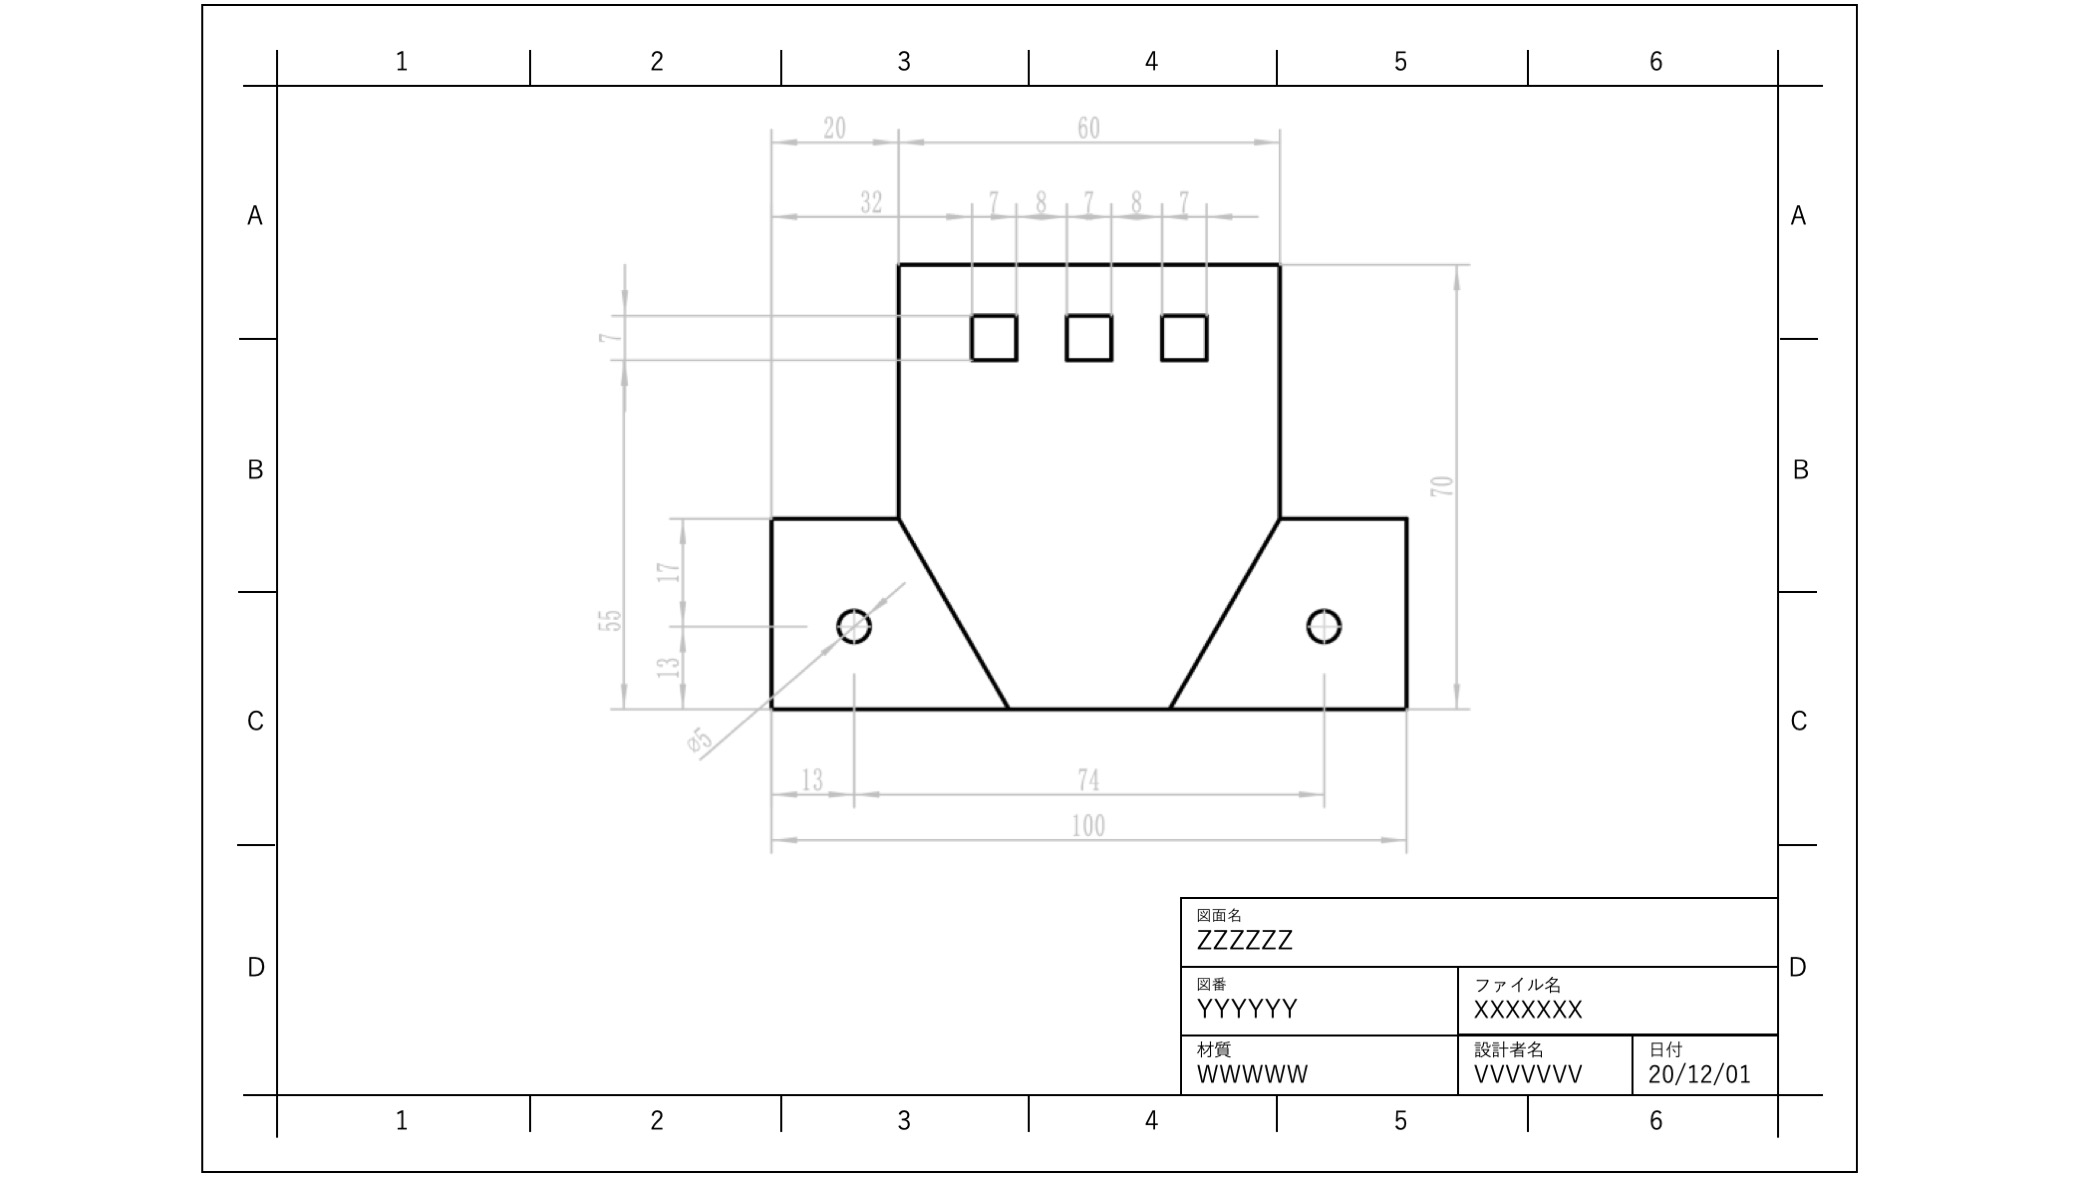circle: (1300, 598, 1350, 650), (834, 601, 875, 658)
rectangle: (1059, 303, 1124, 373), (1148, 304, 1217, 369), (958, 304, 1025, 366)
